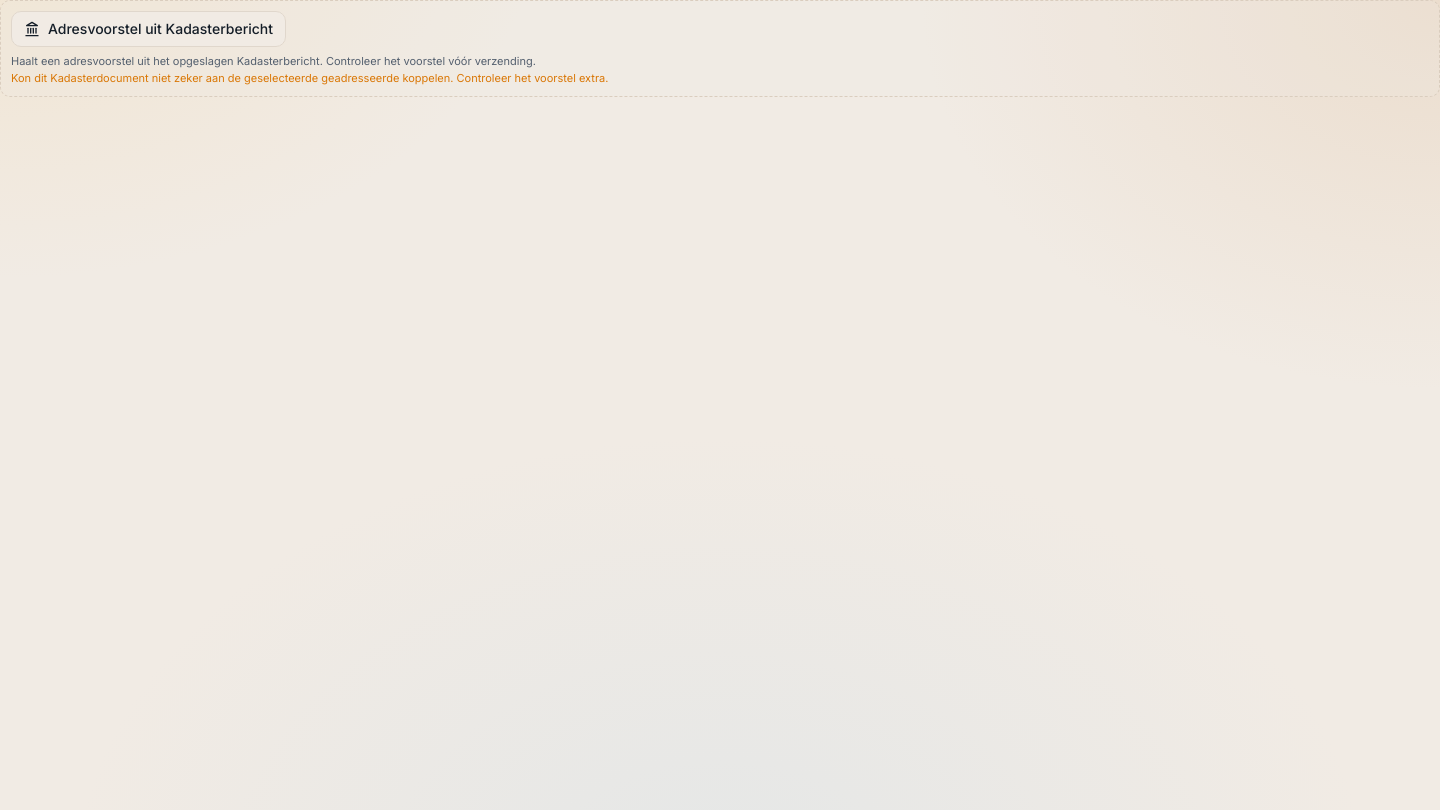
Test case: KadasterPdfAdresVoorstelPanel · labels en matching › voegt "match" toe in label en preselecteert bij persoonsmatch via voorletters
Later steps or results of the test are not shown.
Click the button with test id "kpv-start-knop": (148, 29) [11,11,286,47]
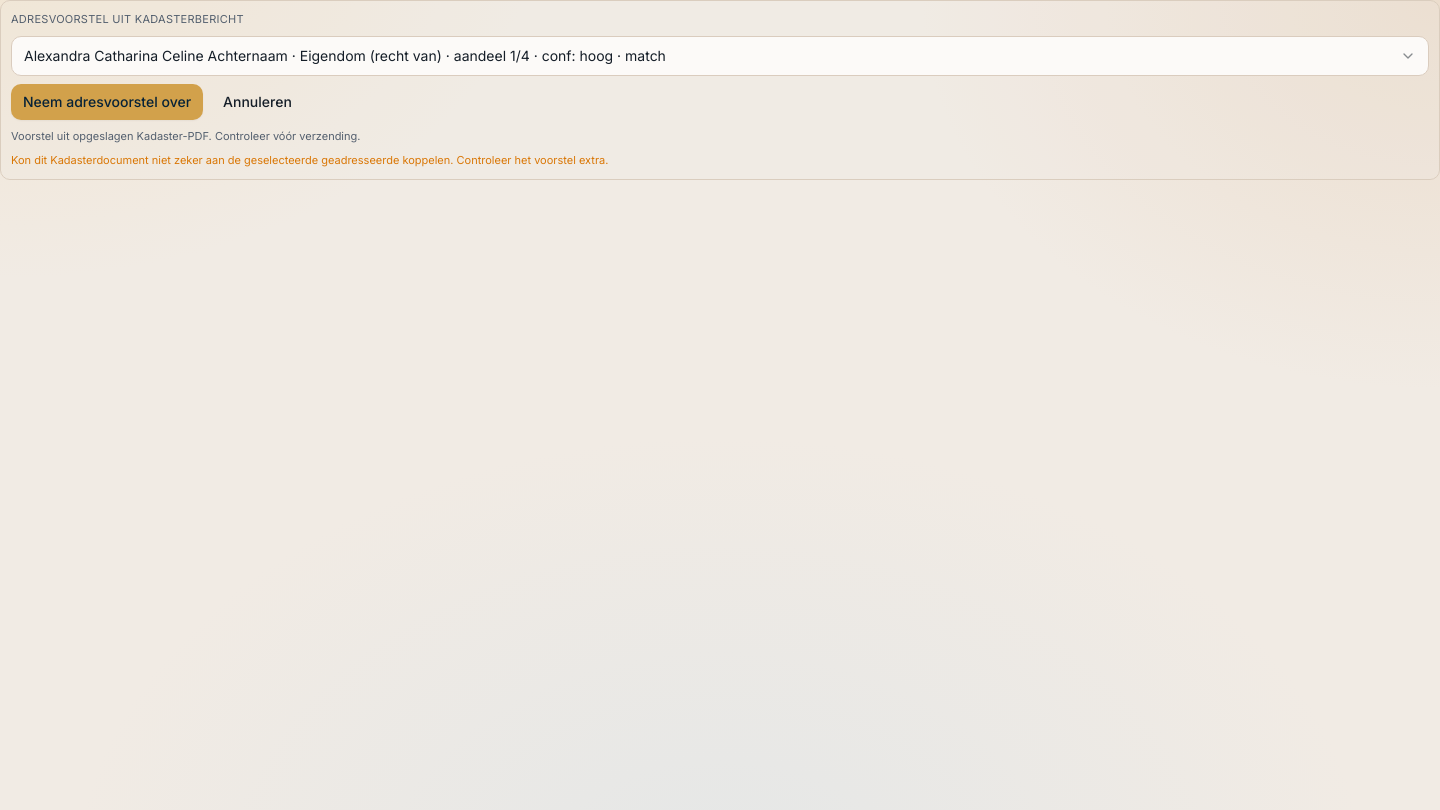
Expected: the dropdown with test id "kpv-keuze-trigger" is shown, [11,36,1429,76]
